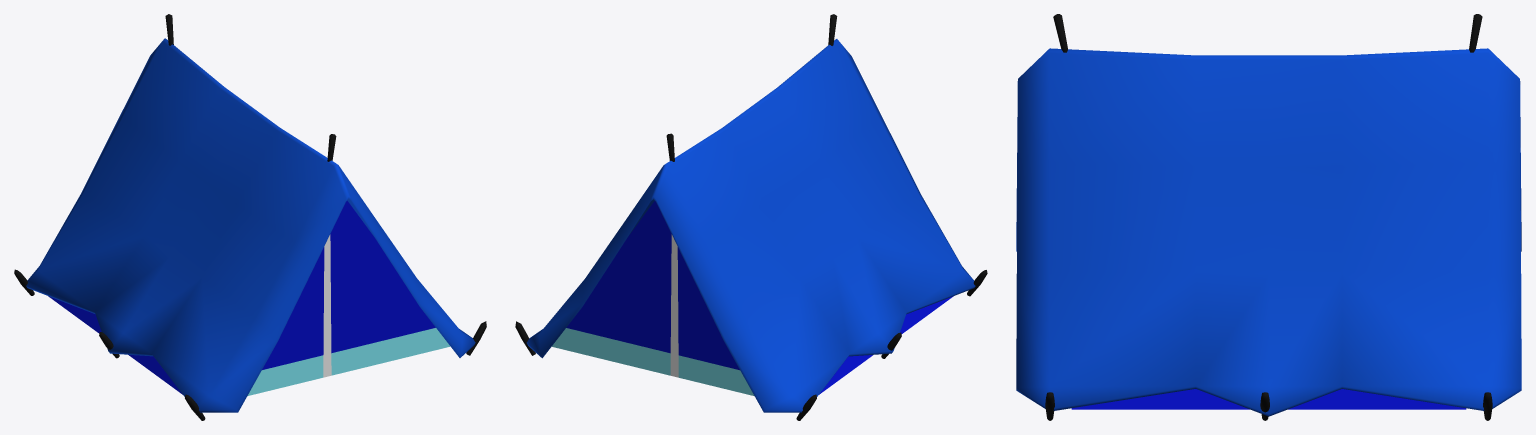
Rendered from Tent_01.fbx.
The picture shows the model from 3 angles, left to right: view 1: azimuth 30°, elevation 25°; view 2: azimuth 150°, elevation 25°; view 3: azimuth 270°, elevation 25°; orthographic projection. The views are drawn at different scales.
Parts seen in each view (by area): view 1: Box001; view 2: Box001; view 3: Box001.
Part boxes in pixels (x1=…): Box001: x1=14, y1=14, x2=486, y2=420; Box001: x1=515, y1=14, x2=987, y2=420; Box001: x1=1016, y1=14, x2=1521, y2=420.
Bounding box in the file's own units: 290 × 232 × 329.
